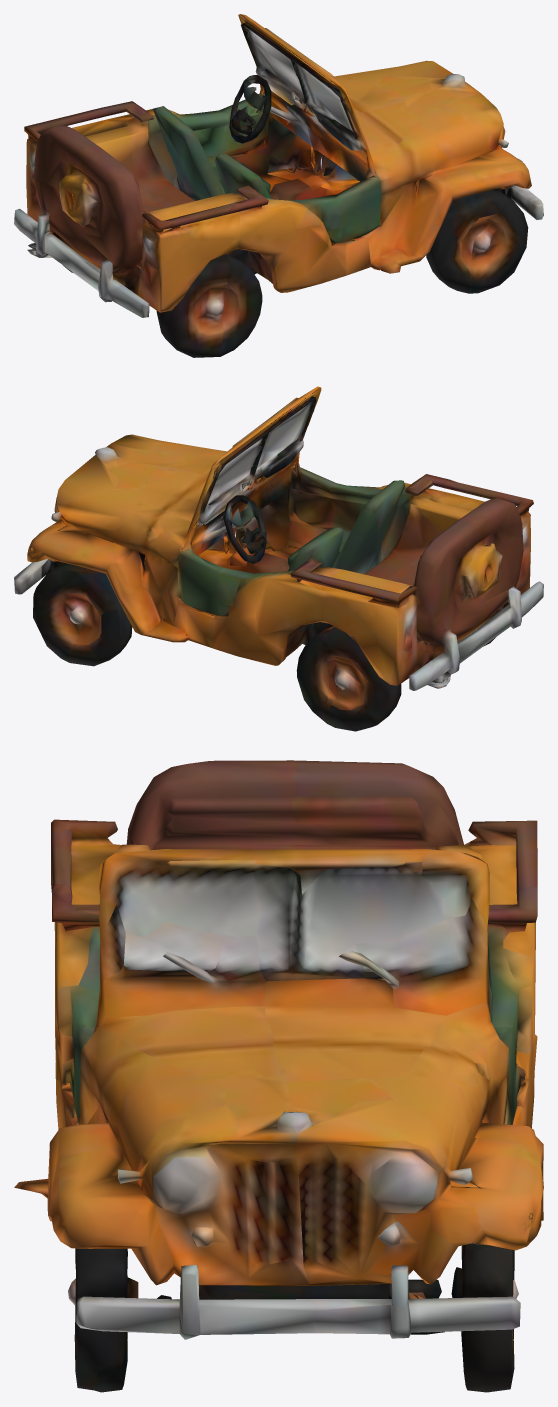
Rendered from jeep-willys.glb.
3 renders of one model, top to bottom at view 1: azimuth 30°, elevation 25°; view 2: azimuth 150°, elevation 25°; view 3: azimuth 270°, elevation 25°, orthographic. The views are drawn at different scales.
Parts seen in each view (by area): view 1: tripo_node_cafcc120-89a0-458f-ae40-37c27af36615; view 2: tripo_node_cafcc120-89a0-458f-ae40-37c27af36615; view 3: tripo_node_cafcc120-89a0-458f-ae40-37c27af36615.
Boxes of the visible parts, x1,y1,x2,y2 form: tripo_node_cafcc120-89a0-458f-ae40-37c27af36615: [14, 14, 543, 357]; tripo_node_cafcc120-89a0-458f-ae40-37c27af36615: [14, 386, 543, 731]; tripo_node_cafcc120-89a0-458f-ae40-37c27af36615: [14, 760, 543, 1392].
Bounding box in the file's own units: 0.9983 × 0.528 × 0.6067.
1 material, 1 textured.
